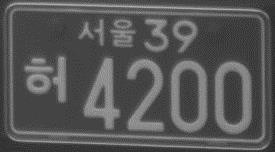0: (168, 58, 209, 134), (213, 59, 254, 135)
2: (125, 57, 167, 133)
3: (144, 17, 169, 54)
4: (80, 56, 120, 131)
9: (172, 18, 199, 55)
서울_O: (77, 18, 136, 49)
허: (24, 54, 68, 104)
